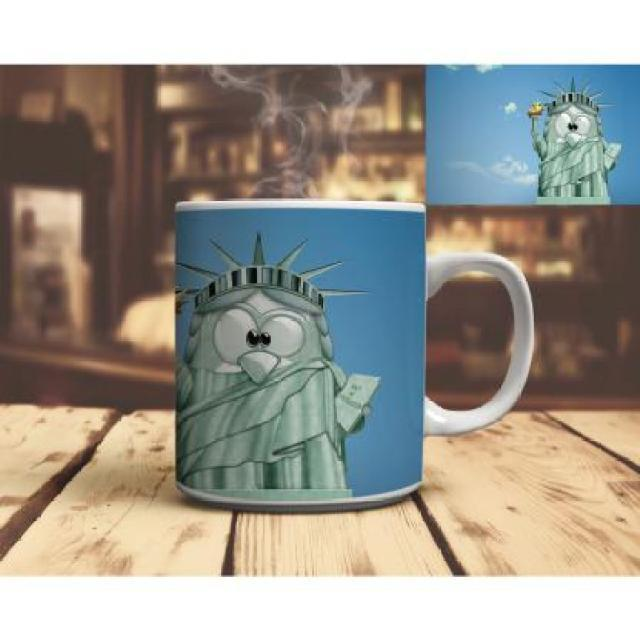taza: (172, 198, 536, 512)
